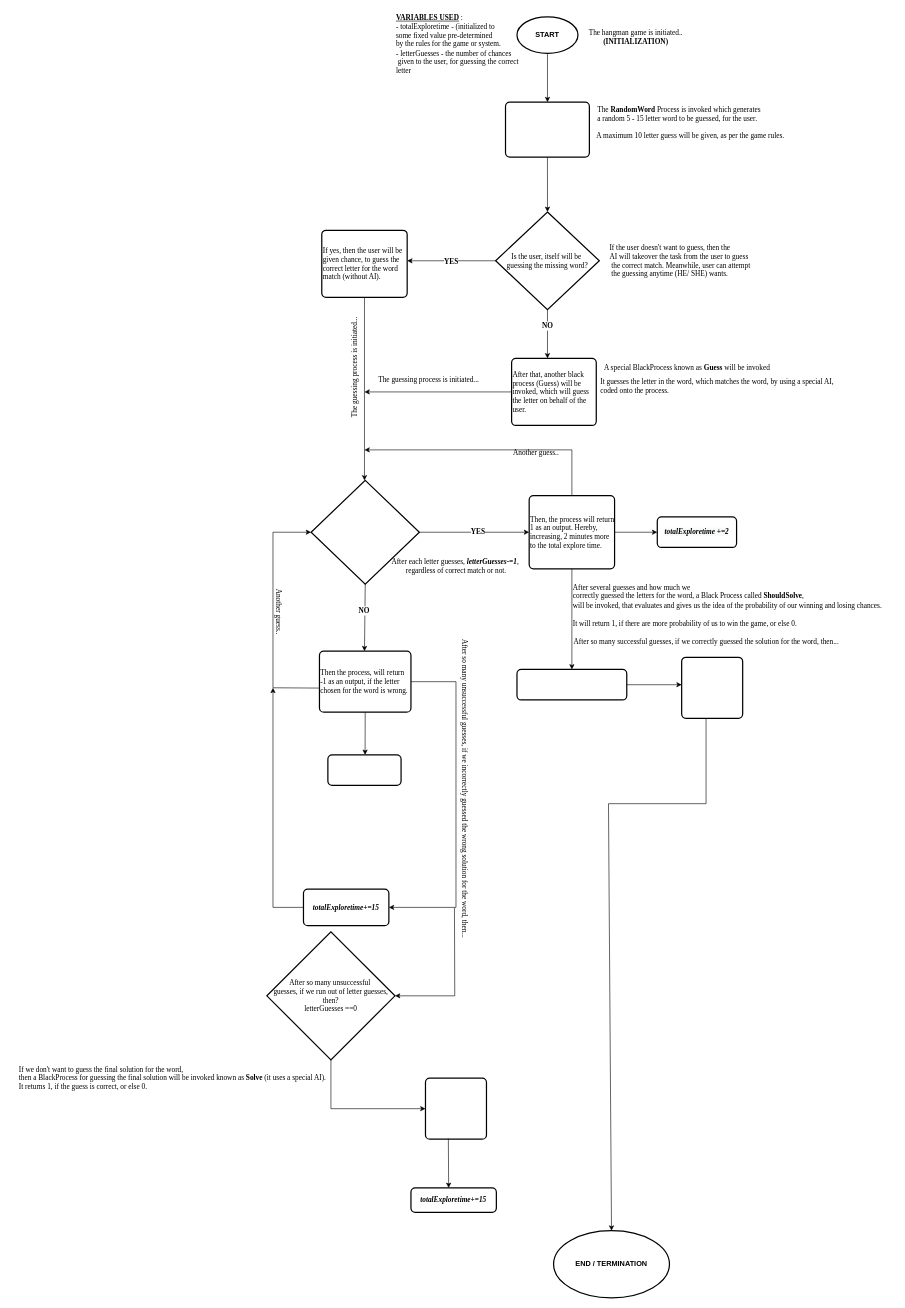
The diagram is 905 pixels wide and 1308 high, and some of its shapes have lost their labels. Here are the shapes that lost their labels. From the top down, the box of each, then its label:
(505, 101, 590, 157): RandomWord (Black Process) is invoked !
(310, 479, 420, 584): If the guess, is a correct match for the word?
(516, 669, 627, 700): totalExploretime+=4
(681, 656, 743, 719): We win the game, with a congratulations message.
(327, 754, 401, 786): totalExploretime +=3
(425, 1077, 487, 1139): We lose the game, since we cannot find the word successfully.
